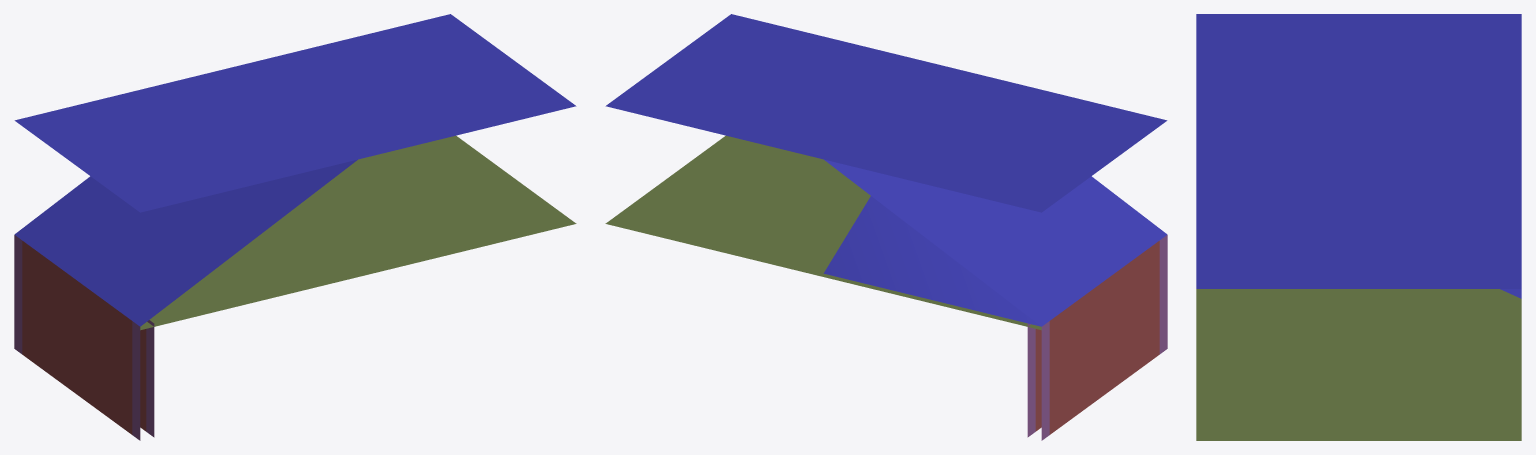
Rendered from roof.fbx.
3 views of the same model, side by side, from view 1: azimuth 30°, elevation 25°; view 2: azimuth 150°, elevation 25°; view 3: azimuth 270°, elevation 25° (orthographic). The views are drawn at different scales.
Parts seen in each view (by area): view 1: roof_side1, floors, roof_top, outerWall, outerPillars, innerWall; view 2: roof_side1, roof_top, floors, outerWall, roof_corner, outerPillars, innerWall; view 3: floors, roof_top, roof_side1.
Boxes of the visible parts, x1,y1,x2,y2 form: roof_side1: (14, 14, 576, 326); floors: (140, 135, 576, 330); roof_top: (14, 67, 357, 212); outerWall: (22, 241, 132, 434); outerPillars: (14, 235, 154, 440); innerWall: (140, 329, 146, 431); roof_side1: (605, 14, 1167, 326); roof_top: (824, 67, 1167, 212); floors: (605, 135, 1041, 330); outerWall: (1049, 241, 1159, 434); roof_corner: (823, 196, 1040, 326); outerPillars: (1027, 235, 1167, 440); innerWall: (1035, 329, 1041, 431); floors: (1196, 289, 1521, 440); roof_top: (1196, 14, 1521, 151); roof_side1: (1196, 151, 1521, 288).
Bounding box in the file's own units: 2 × 1 × 1.
